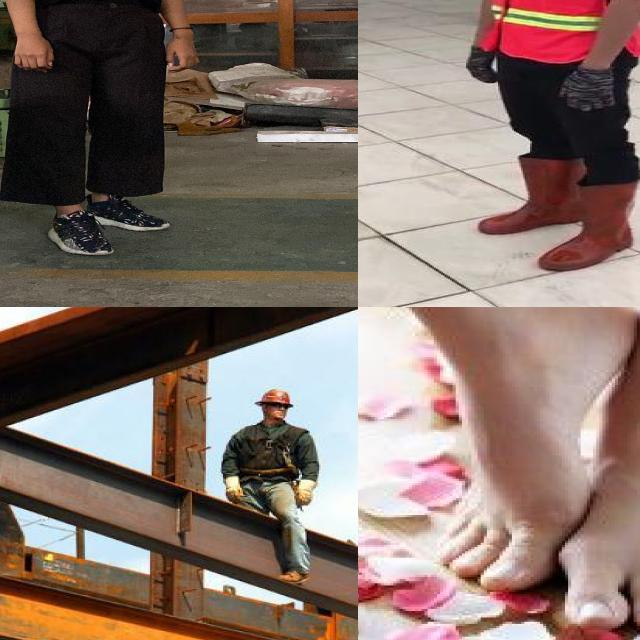Barefoots: (423, 307, 640, 591)
Harness: (237, 423, 310, 490)
boots: (540, 179, 636, 272), (475, 157, 587, 236)
hand_glove: (558, 65, 624, 113), (464, 44, 505, 82)
hand_noglove: (4, 32, 62, 75), (162, 36, 208, 74)
head_nohelmet: (0, 0, 225, 276)
person: (454, 0, 640, 275)
shoes: (38, 210, 123, 258), (80, 195, 175, 233)
vest: (485, 0, 640, 61)
